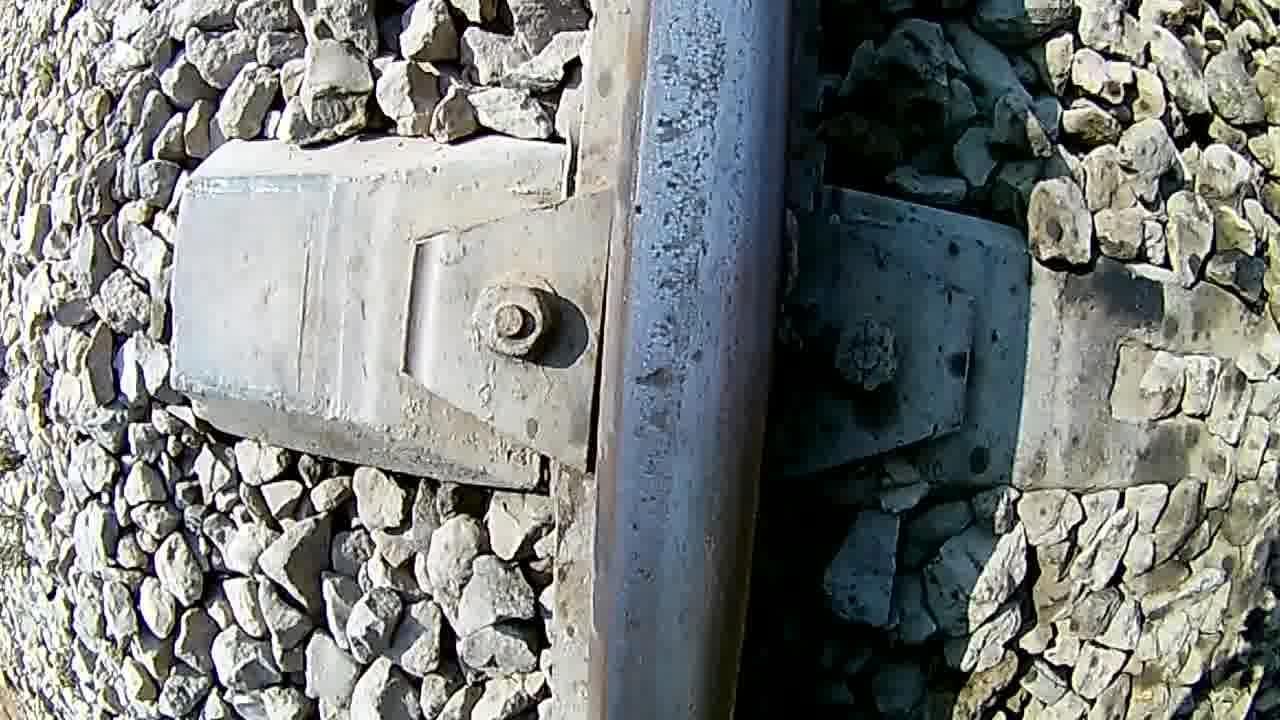crack: (608, 0, 788, 720)
